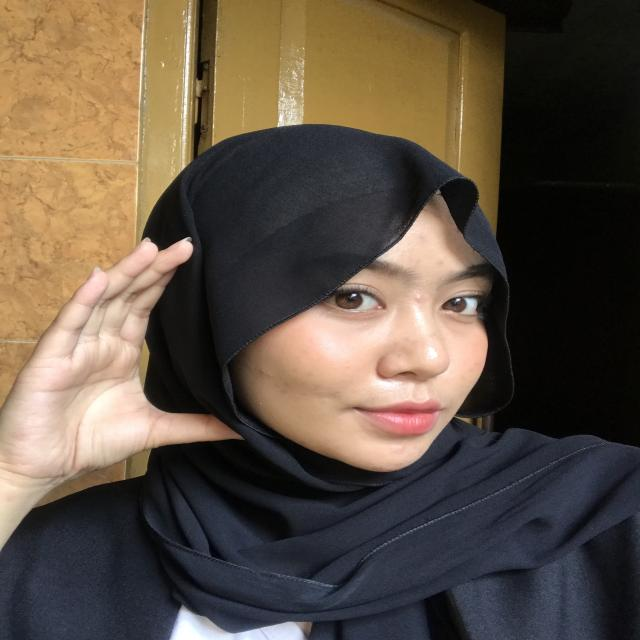mendengar: (11, 207, 259, 479)
